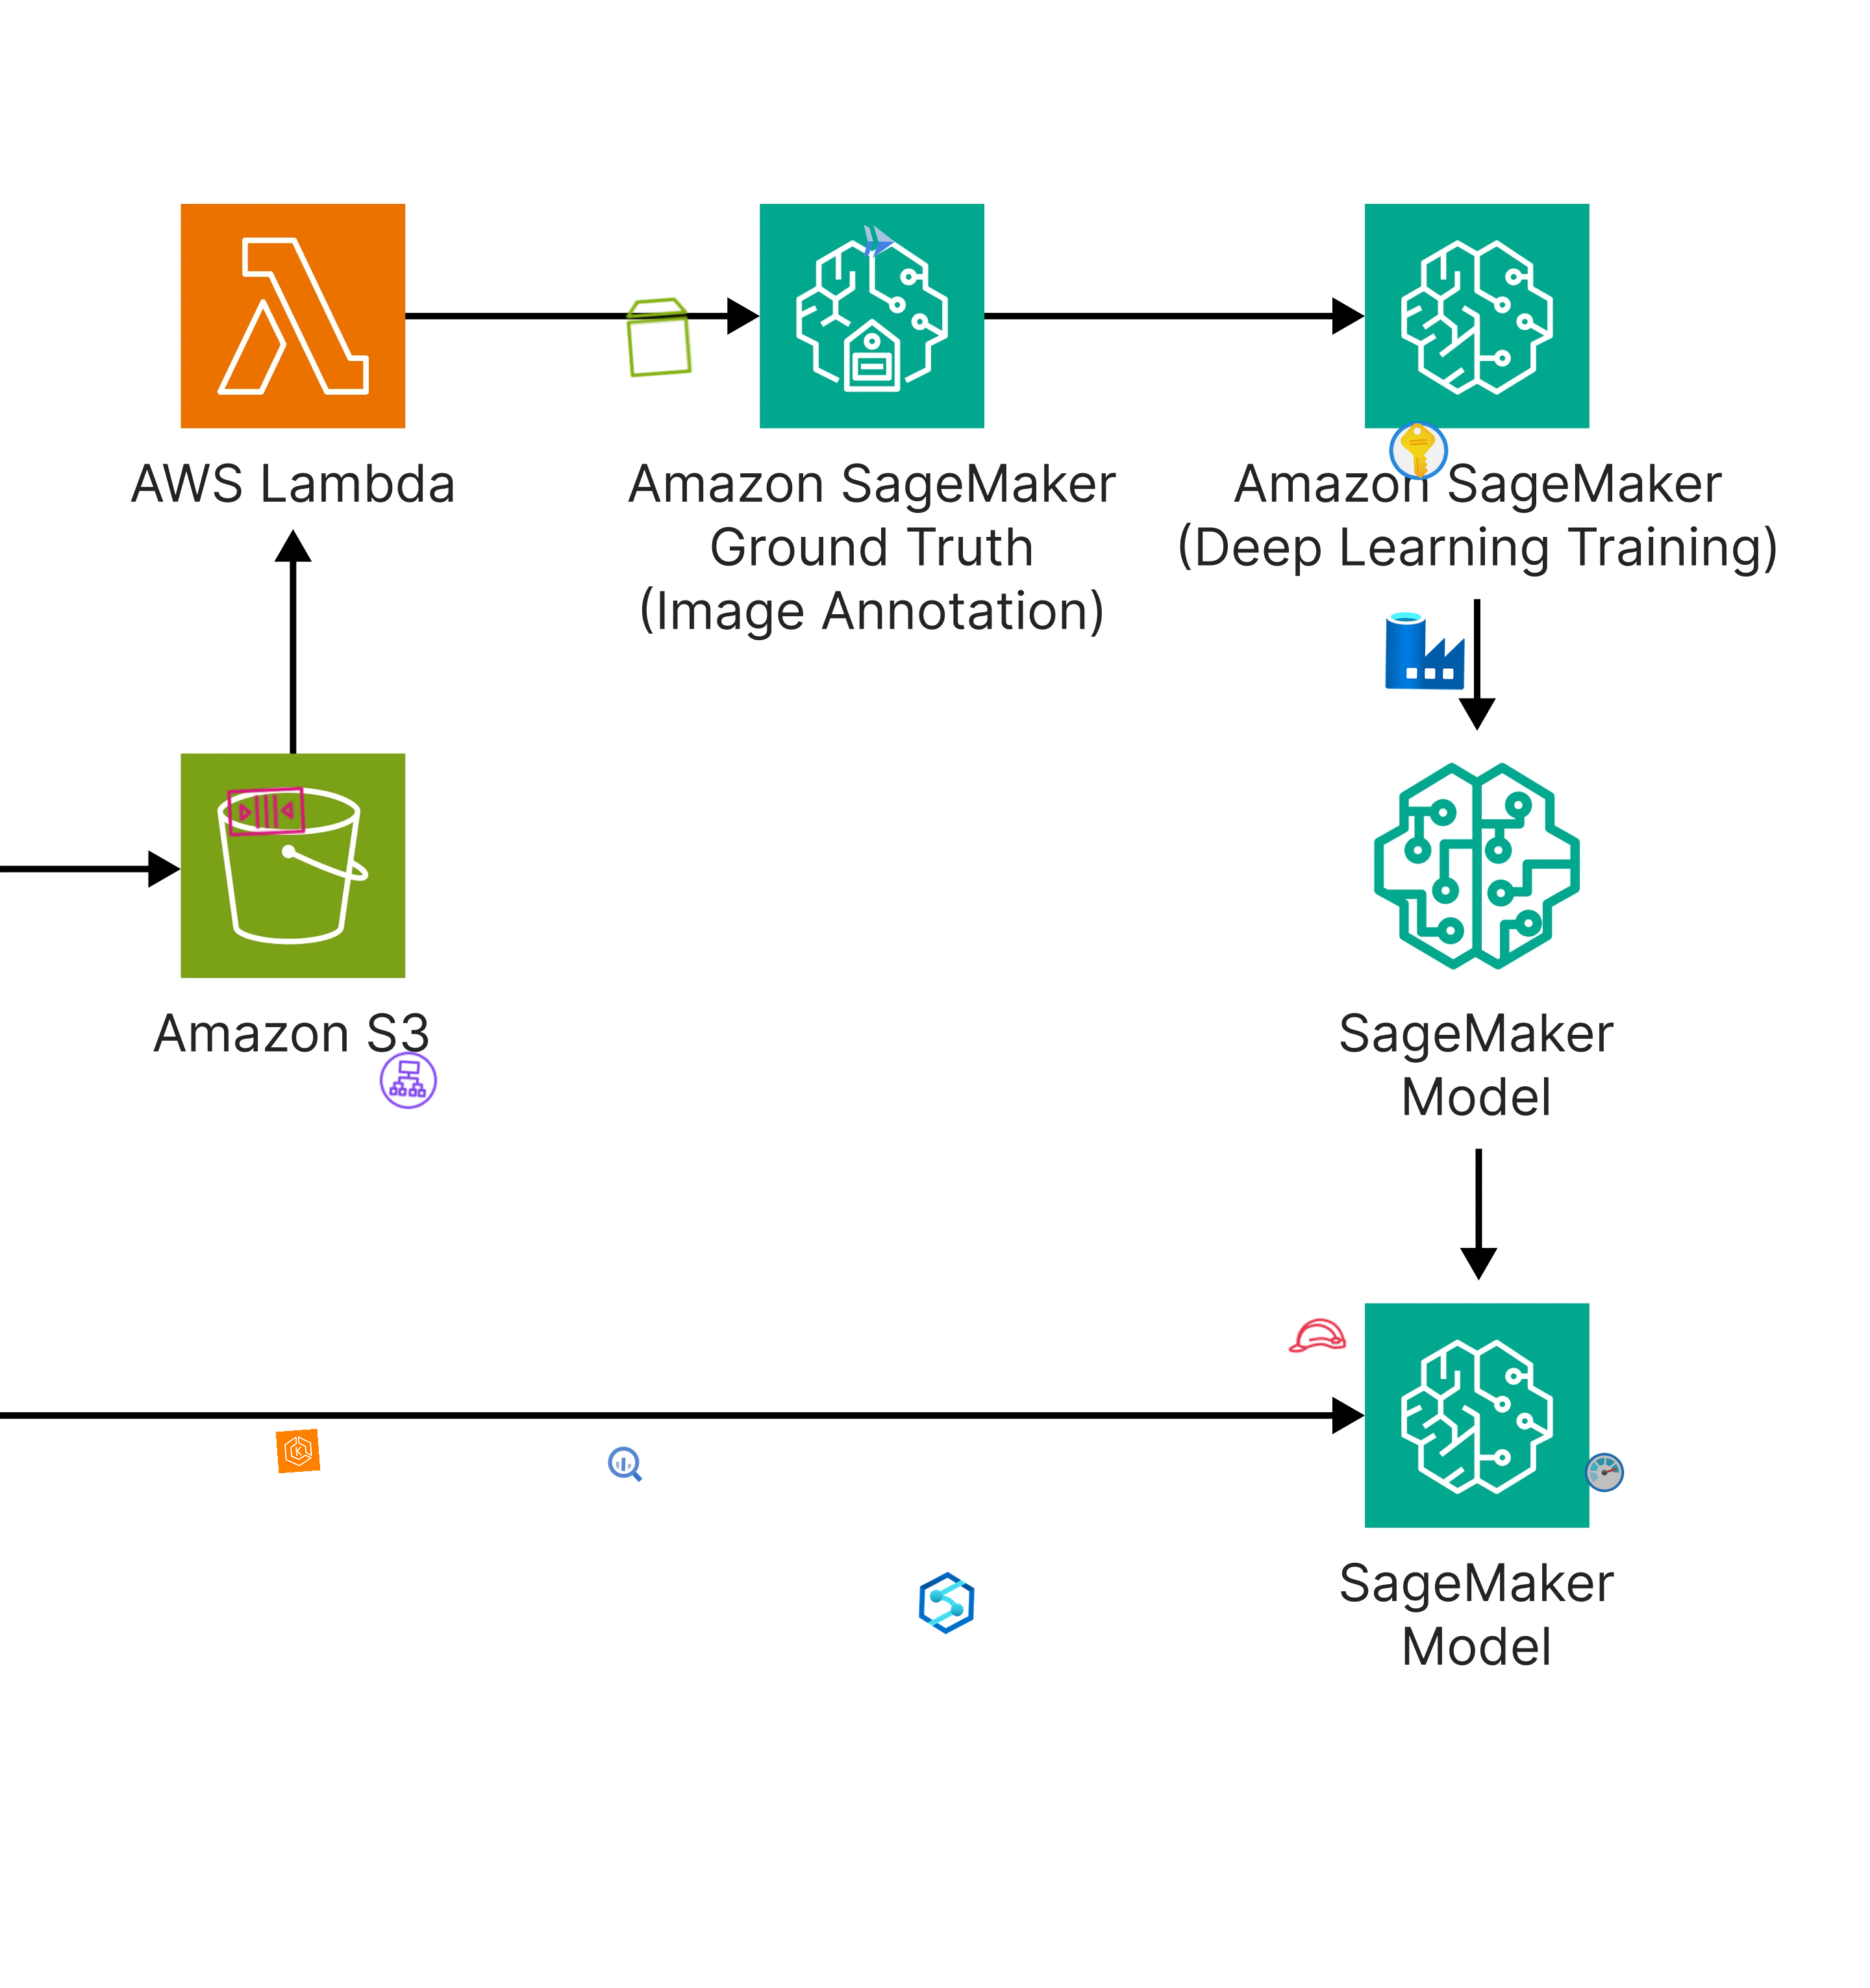aws_amazon_elastic_kubernetes_service: (276, 1429, 322, 1473)
aws_elastic_block_store_volume: (613, 292, 703, 381)
aws_elastic_load_balancing_application_load_balancer: (376, 1048, 441, 1113)
aws_identity_access_management_role: (1283, 1302, 1350, 1369)
aws_simple_queue_service_queue: (223, 768, 309, 854)
azure_data_factories: (1383, 608, 1468, 693)
azure_key_vaults: (1385, 417, 1452, 485)
azure_monitor: (1582, 1450, 1627, 1496)
azure_synapse_analytics: (914, 1570, 979, 1635)
gcp_bigquery: (603, 1441, 647, 1485)
gcp_cloud_run: (858, 220, 900, 264)
